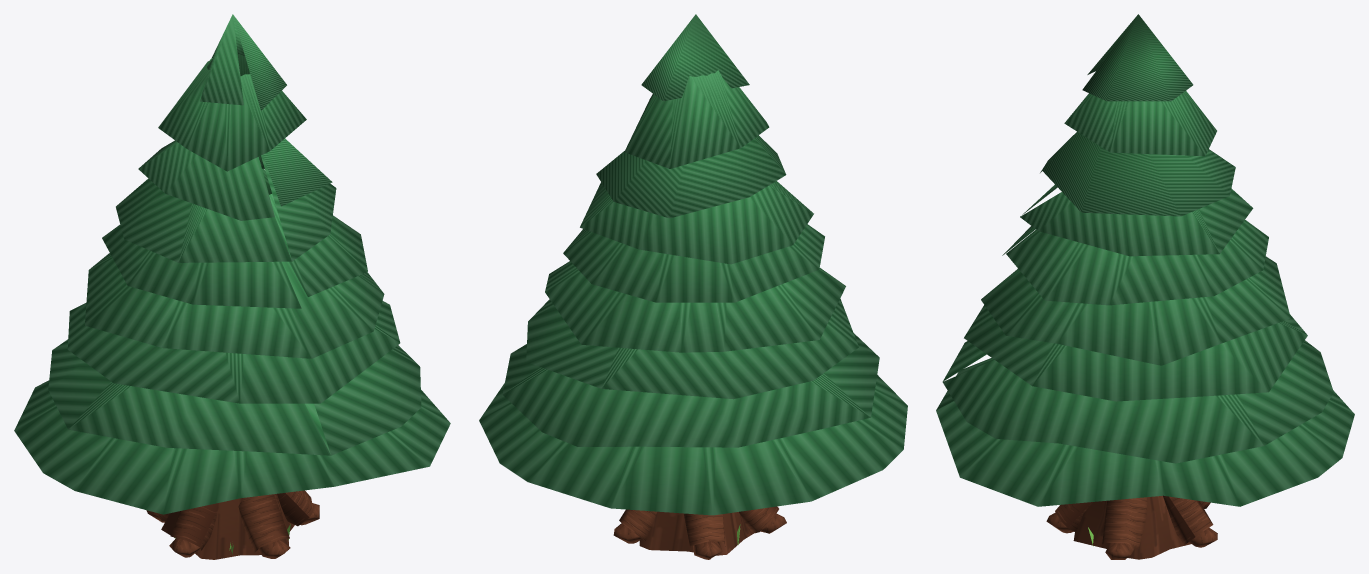
Rendered from cedar.glb.
3 renders of one model, left to right at view 1: azimuth 30°, elevation 25°; view 2: azimuth 150°, elevation 25°; view 3: azimuth 270°, elevation 25°, orthographic.
Parts seen in each view (by area): view 1: Cedar_Skirt_Tier_1, Main_Trunk_Mesh; view 2: Cedar_Skirt_Tier_1, Main_Trunk_Mesh; view 3: Cedar_Skirt_Tier_1, Main_Trunk_Mesh.
Part boxes in pixels (x1,y1,x2,y2): Cedar_Skirt_Tier_1: [14, 14, 450, 514]; Main_Trunk_Mesh: [146, 490, 319, 559]; Cedar_Skirt_Tier_1: [479, 14, 907, 515]; Main_Trunk_Mesh: [613, 506, 786, 559]; Cedar_Skirt_Tier_1: [936, 14, 1354, 506]; Main_Trunk_Mesh: [1046, 495, 1217, 559].
Size of the model in its own units: 2.68 by 3.65 by 2.68.
Materials: 3 (2 with a texture image).
